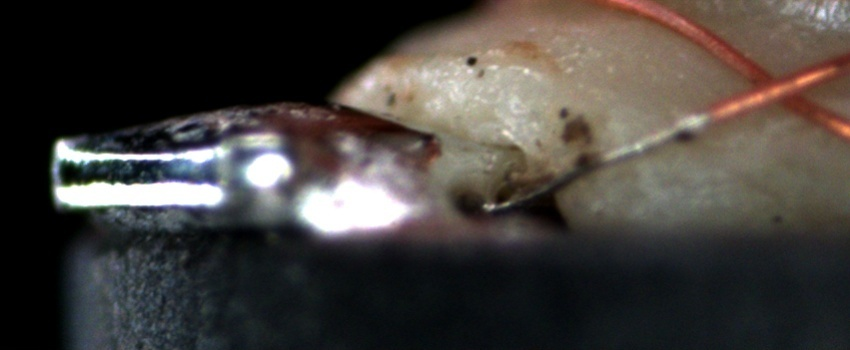CL: (731, 54, 821, 119)
TS: (483, 111, 711, 212)
TTCW: (477, 87, 764, 215)
